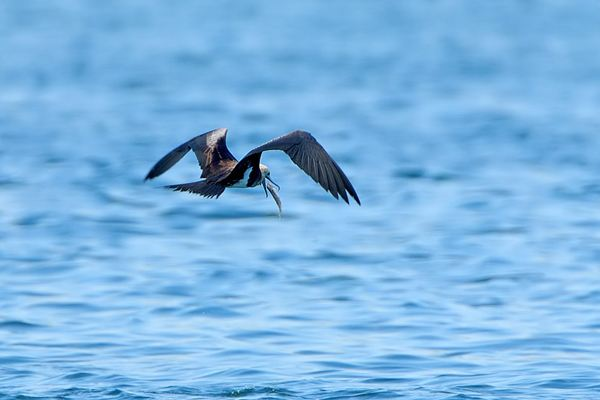bird: (144, 124, 360, 216)
